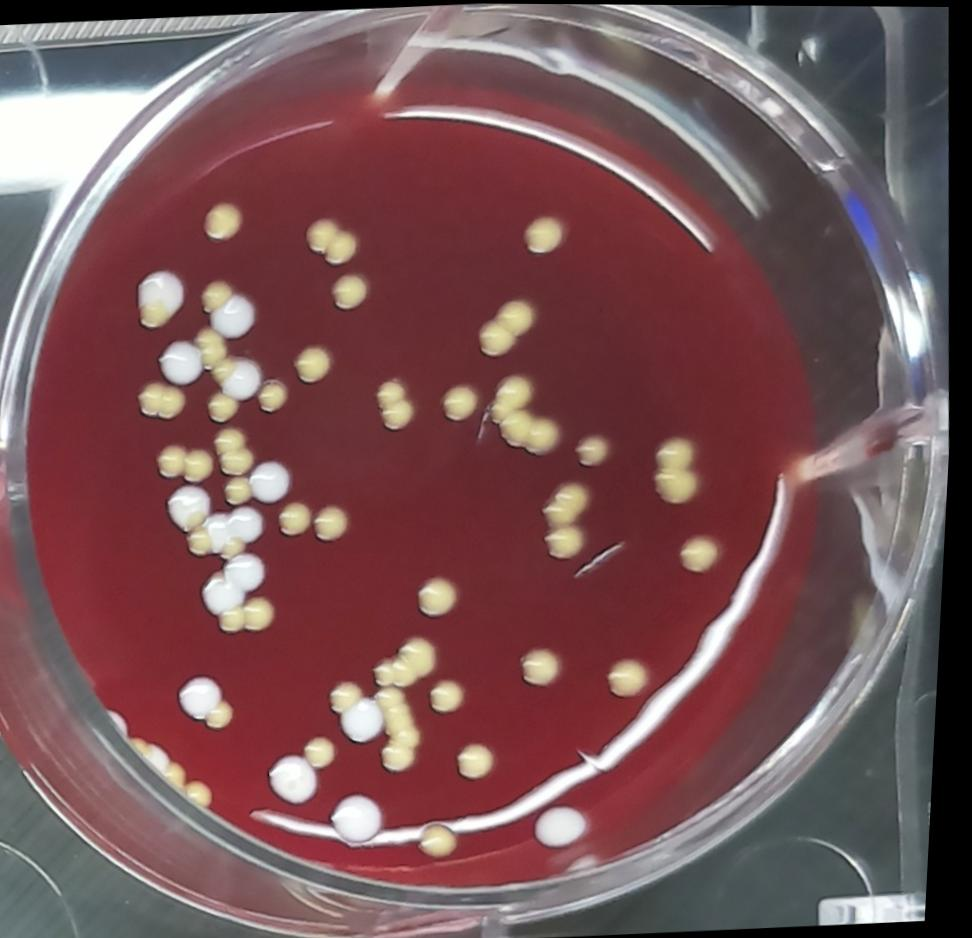staphylo-: (486, 366, 580, 462), (543, 476, 600, 568), (651, 429, 715, 510), (474, 290, 545, 360), (381, 678, 432, 773), (377, 630, 449, 689), (303, 209, 364, 270), (156, 438, 223, 488), (135, 376, 199, 423), (415, 569, 470, 623), (522, 637, 577, 691), (681, 526, 735, 580), (520, 207, 575, 259), (217, 419, 266, 477), (373, 375, 421, 433), (610, 650, 661, 701), (458, 735, 510, 785), (422, 815, 475, 862), (223, 596, 285, 635), (201, 197, 250, 245), (441, 376, 487, 425), (294, 339, 342, 385), (198, 326, 236, 384), (430, 674, 478, 719), (331, 270, 376, 314), (315, 500, 357, 544), (281, 494, 321, 540), (578, 429, 621, 469), (200, 275, 241, 316), (258, 374, 295, 418), (306, 733, 351, 769), (206, 692, 245, 733), (190, 773, 231, 812), (332, 676, 372, 714), (224, 473, 261, 507), (137, 299, 172, 334), (191, 523, 225, 558), (209, 389, 243, 423), (172, 755, 202, 789), (226, 535, 254, 559), (190, 511, 213, 530)
